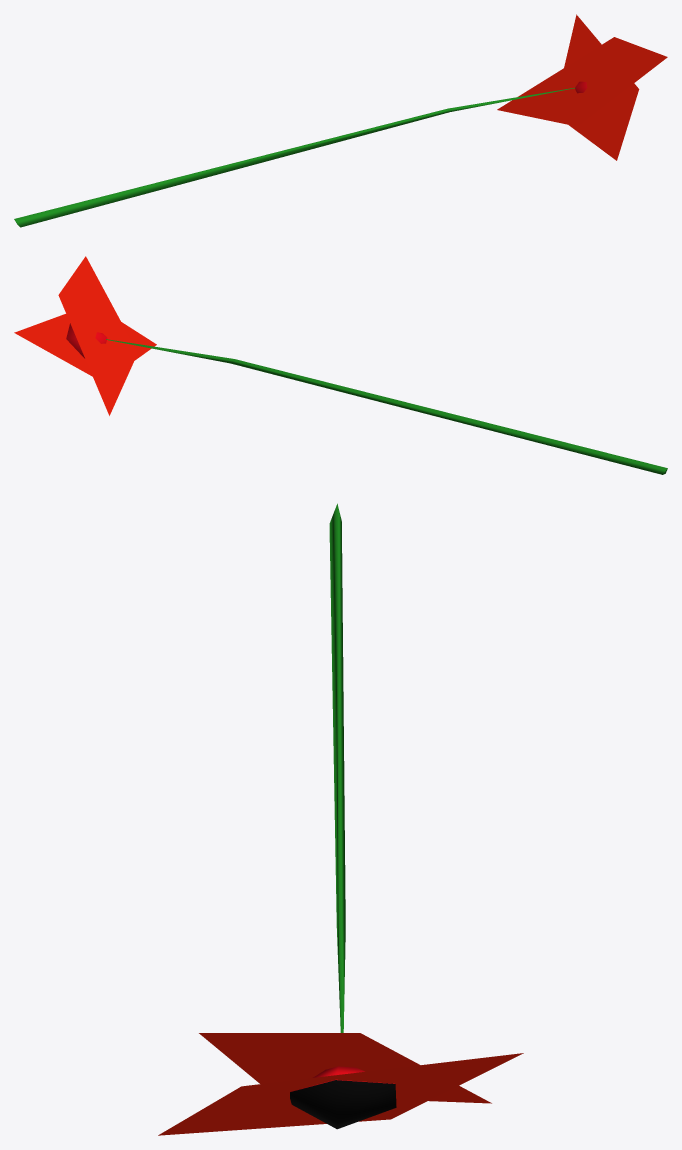
The model's file is poppyFlower.glb.
3 views of the same model, one above another, from view 1: azimuth 30°, elevation 25°; view 2: azimuth 150°, elevation 25°; view 3: azimuth 270°, elevation 25° (orthographic). The views are drawn at different scales.
Visible parts, largest first — view 1: Icosphere.001; view 2: Icosphere.001; view 3: Icosphere.001.
Part boxes in pixels (box(x1,y1,x2,y2)): Icosphere.001: box(14, 14, 667, 227); Icosphere.001: box(14, 256, 667, 474); Icosphere.001: box(158, 503, 523, 1135).
Bounding box in the file's own units: 1.14 × 0.1456 × 0.2925.
